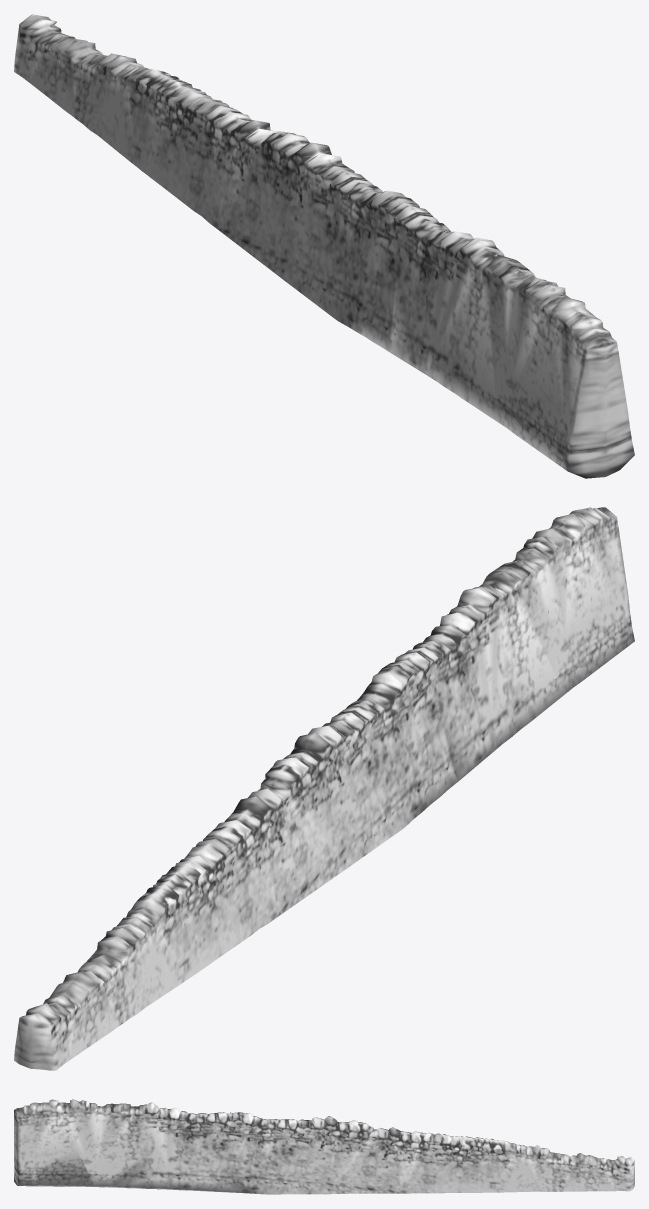
Rendered from Ruins_BigWall001.fbx.
3 renders of one model, top to bottom at view 1: azimuth 30°, elevation 25°; view 2: azimuth 150°, elevation 25°; view 3: azimuth 270°, elevation 25°, orthographic. The views are drawn at different scales.
Visible parts, largest first — view 1: Ruins_BigWall001; view 2: Ruins_BigWall001; view 3: Ruins_BigWall001.
Part boxes in pixels (x1,y1,x2,y2): Ruins_BigWall001: [14, 14, 634, 478]; Ruins_BigWall001: [14, 507, 634, 1070]; Ruins_BigWall001: [14, 1099, 634, 1194].
Size of the model in its own units: 164 by 371 by 2434.
